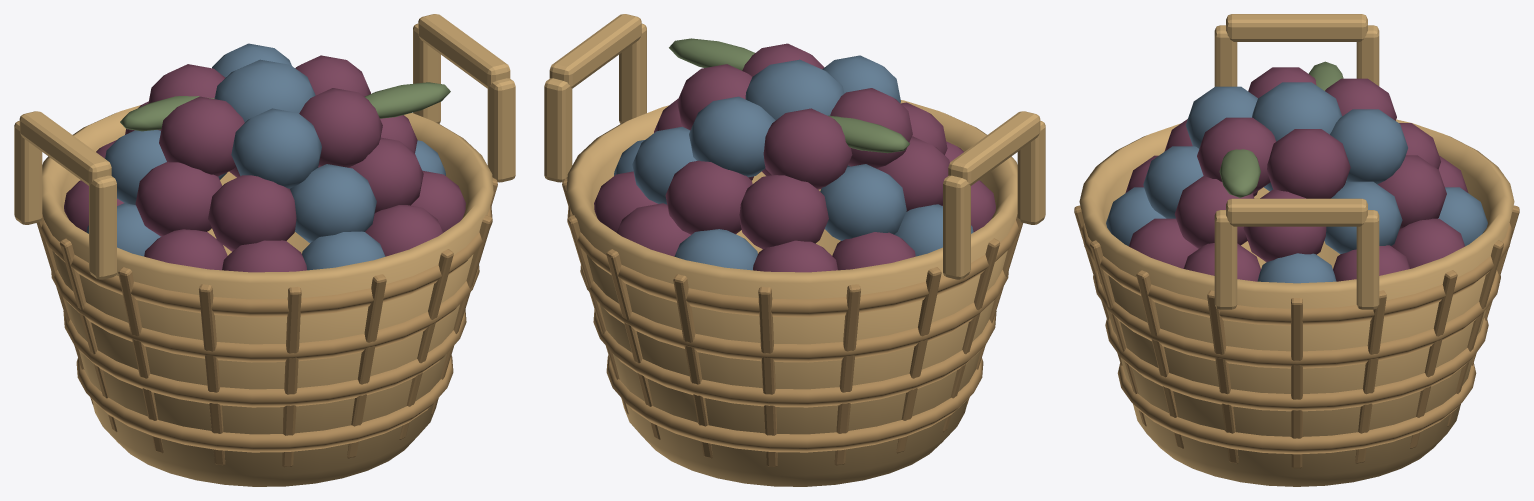
File: basket_berries.glb
3 renders of one model, left to right at view 1: azimuth 30°, elevation 25°; view 2: azimuth 150°, elevation 25°; view 3: azimuth 270°, elevation 25°, orthographic. The views are drawn at different scales.
Parts seen in each view (by area): view 1: basket_berries; view 2: basket_berries; view 3: basket_berries.
Boxes of the visible parts, x1=… form: basket_berries: x1=14, y1=14, x2=515, y2=486; basket_berries: x1=544, y1=14, x2=1045, y2=486; basket_berries: x1=1074, y1=14, x2=1519, y2=486.
Bounding box in the file's own units: 0.488 × 0.395 × 0.4709.
